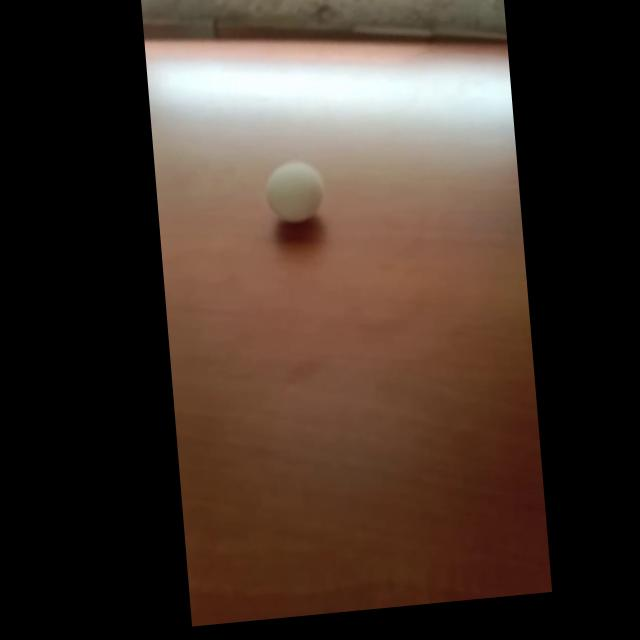white ball: (263, 159, 326, 226)
